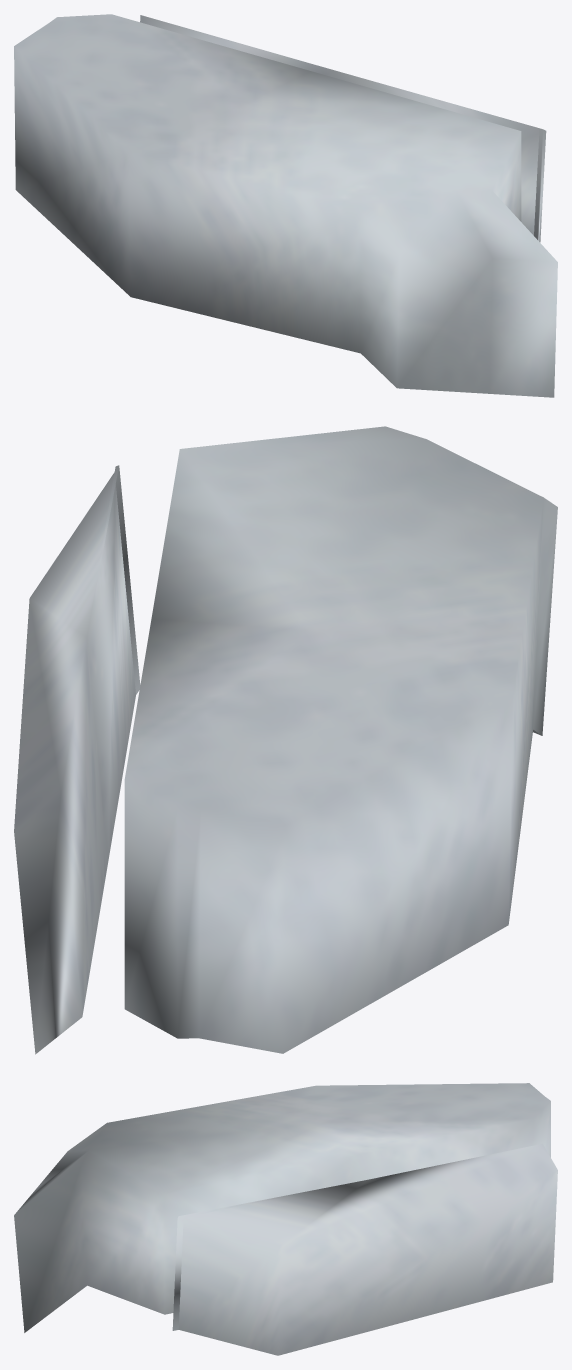
File: Rock_21_Snow.fbx
3 views of the same model, one above another, from view 1: azimuth 30°, elevation 25°; view 2: azimuth 150°, elevation 25°; view 3: azimuth 270°, elevation 25° (orthographic). The views are drawn at different scales.
Visible parts, largest first — view 1: Rock_21_Snow; view 2: Rock_21_Snow; view 3: Rock_21_Snow.
Boxes of the visible parts, x1,y1,x2,y2 form: Rock_21_Snow: (14, 14, 557, 397); Rock_21_Snow: (14, 426, 557, 1054); Rock_21_Snow: (14, 1083, 557, 1355).
Size of the model in its own units: 65.2 by 35.89 by 111.
